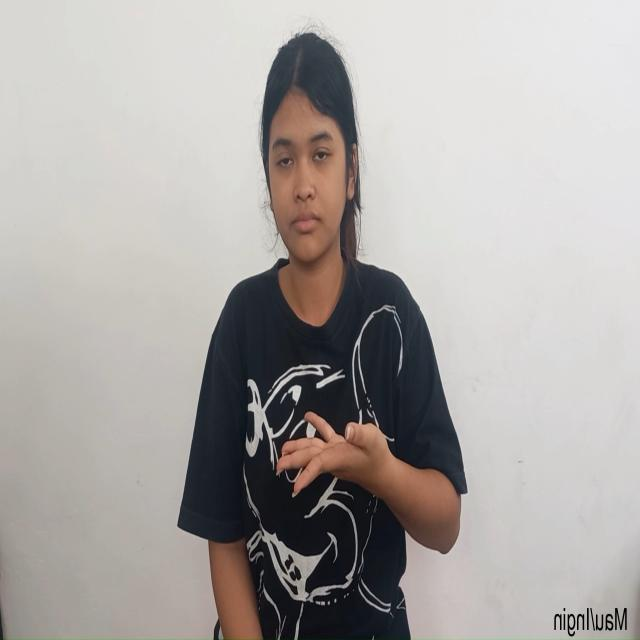Mau-Ingin -BISINDO-: (274, 409, 462, 557)
